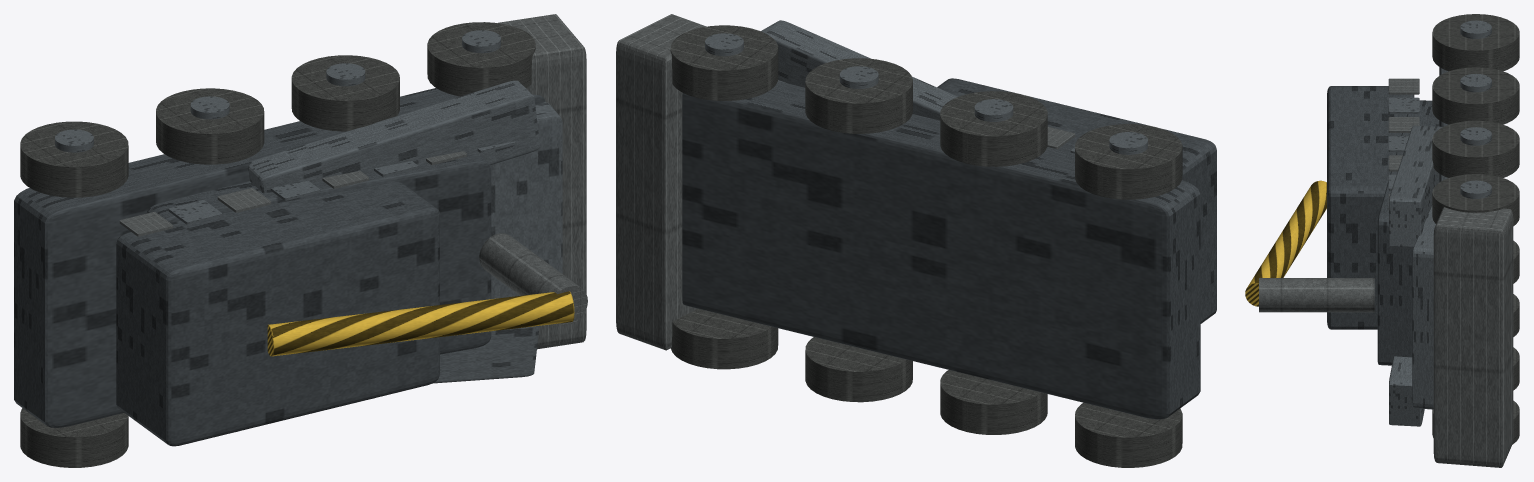
Rendered from s-u18-specter-recovery-vehicle-lod0.glb.
The picture shows the model from 3 angles, left to right: view 1: azimuth 30°, elevation 25°; view 2: azimuth 150°, elevation 25°; view 3: azimuth 270°, elevation 25°; orthographic projection. The views are drawn at different scales.
Parts seen in each view (by area): view 1: recovery_superstructure, chassis_lower, stealth_cheek_1, stealth_upper_hull, dozer_blade, service_boom, chassis_nose, chassis_wheel_1_1, chassis_wheel_1_0, chassis_wheel_1_2, chassis_wheel_1_3, chassis_wheel_-1_0 (+10 smaller); view 2: chassis_lower, dozer_blade, chassis_wheel_1_0, chassis_wheel_1_2, chassis_wheel_1_1, chassis_wheel_1_3, recovery_superstructure, chassis_wheel_-1_0, chassis_wheel_-1_2, chassis_wheel_-1_1, chassis_wheel_-1_3, stealth_cheek_1 (+4 smaller); view 3: dozer_blade, recovery_superstructure, stealth_upper_hull, stealth_cheek_1, winch, chassis_nose, chassis_wheel_1_2, chassis_wheel_1_0, chassis_wheel_1_1, service_boom, chassis_wheel_1_3, stealth_cheek_-1 (+9 smaller).
Part boxes in pixels (box(x1,y1,x2,y2)): recovery_superstructure: box(116, 182, 439, 446); chassis_lower: box(14, 88, 545, 427); stealth_cheek_1: box(248, 80, 540, 193); stealth_upper_hull: box(146, 154, 491, 354); dozer_blade: box(498, 14, 586, 349); service_boom: box(267, 291, 574, 356); chassis_nose: box(490, 102, 562, 298); chassis_wheel_1_1: box(156, 88, 264, 164); chassis_wheel_1_0: box(20, 121, 128, 197); chassis_wheel_1_2: box(291, 55, 399, 131); chassis_wheel_1_3: box(427, 22, 535, 96); chassis_wheel_-1_0: box(20, 408, 128, 467); chassis_lower: box(682, 81, 1200, 419); dozer_blade: box(616, 14, 706, 350); chassis_wheel_1_0: box(1075, 124, 1182, 199); chassis_wheel_1_2: box(805, 58, 912, 133); chassis_wheel_1_1: box(940, 91, 1047, 166); chassis_wheel_1_3: box(670, 25, 778, 100); recovery_superstructure: box(937, 78, 1216, 323); chassis_wheel_-1_0: box(1075, 402, 1182, 467); chassis_wheel_-1_2: box(805, 337, 912, 402); chassis_wheel_-1_1: box(940, 370, 1047, 434); chassis_wheel_-1_3: box(671, 308, 778, 369); stealth_cheek_1: box(761, 20, 957, 120); dozer_blade: box(1433, 207, 1513, 467); recovery_superstructure: box(1327, 86, 1414, 329); stealth_upper_hull: box(1377, 100, 1439, 365); stealth_cheek_1: box(1389, 125, 1442, 247); winch: box(1259, 278, 1374, 312); chassis_nose: box(1412, 205, 1435, 409); chassis_wheel_1_2: box(1432, 120, 1519, 177); chassis_wheel_1_0: box(1432, 14, 1519, 71); chassis_wheel_1_1: box(1432, 67, 1519, 124); service_boom: box(1245, 180, 1326, 306); chassis_wheel_1_3: box(1432, 174, 1519, 226); stealth_cheek_-1: box(1389, 356, 1424, 426).
Size of what is drawn, in the model's own units: 7.36 by 4.01 by 3.95.
7 materials, 7 textured.
